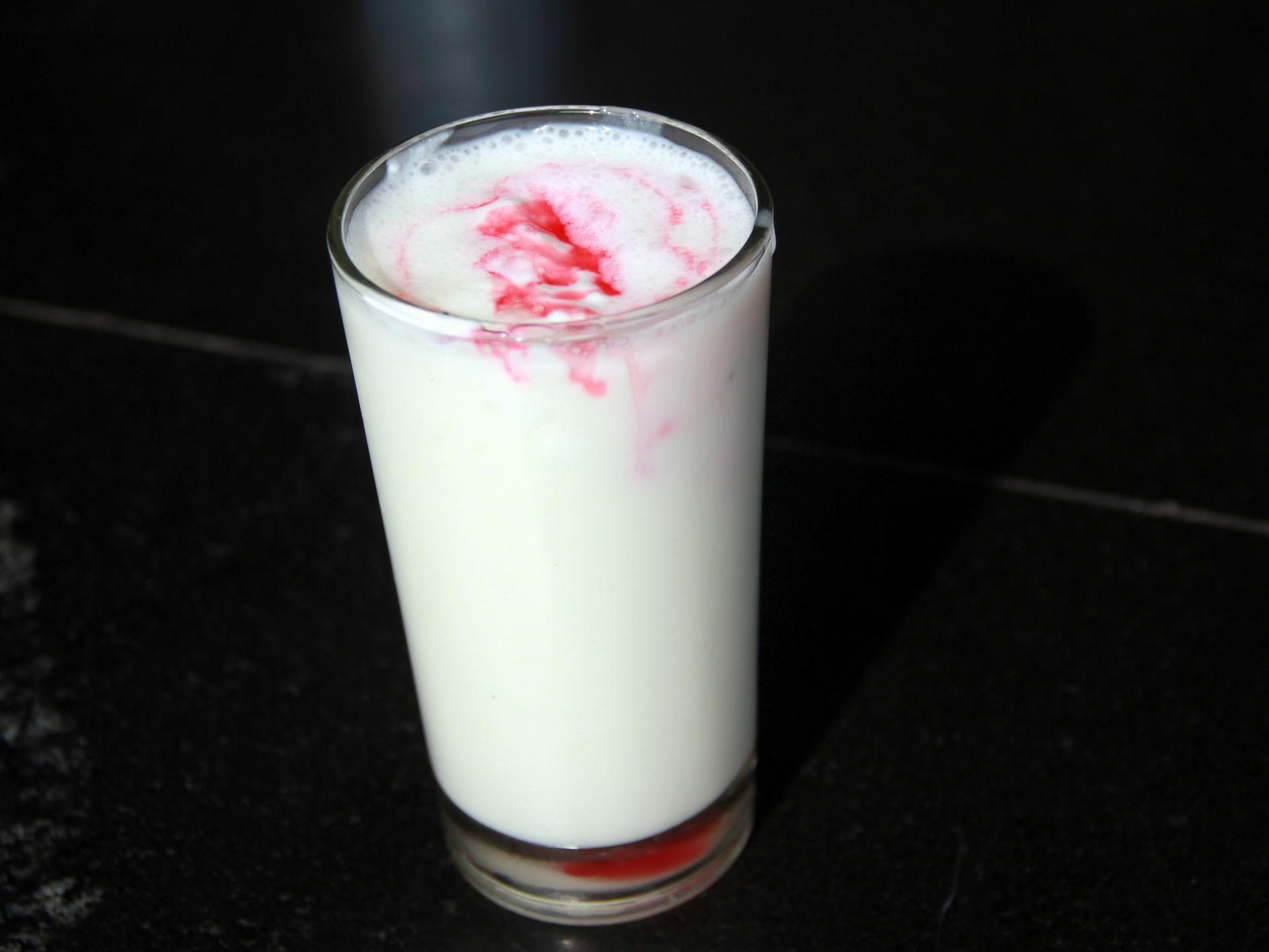Lassi: (338, 121, 795, 833)
